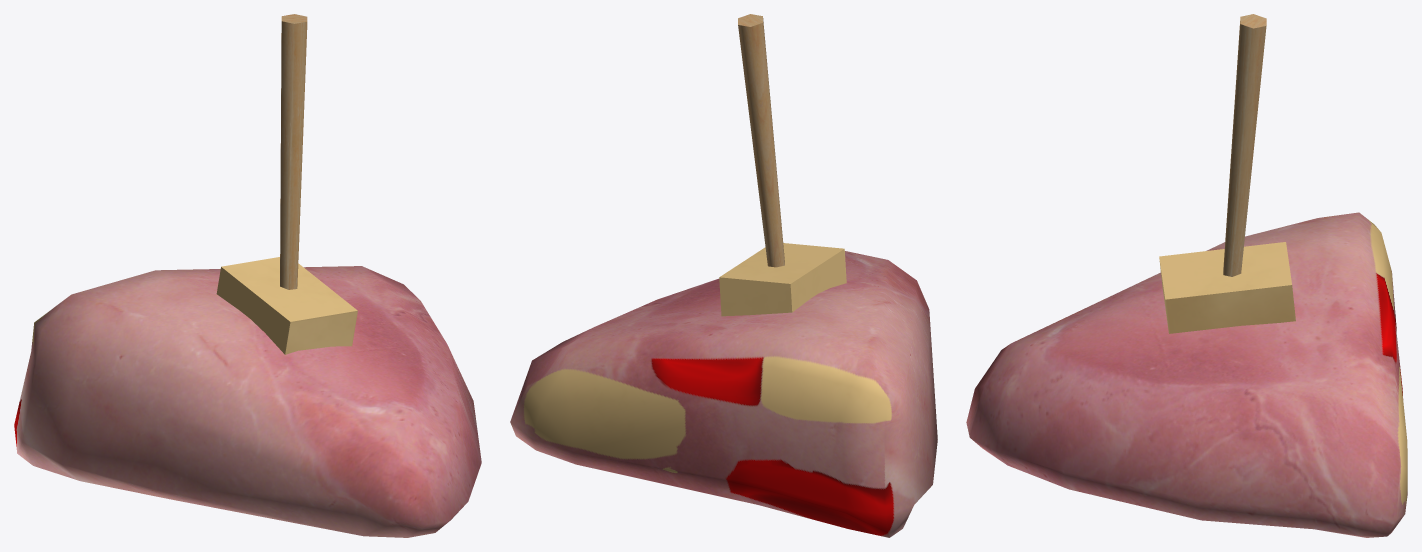
Rendered from BuffetSnacks02_6.FBX.
3 renders of one model, left to right at view 1: azimuth 30°, elevation 25°; view 2: azimuth 150°, elevation 25°; view 3: azimuth 270°, elevation 25°, orthographic. The views are drawn at different scales.
Visible parts, largest first — view 1: BuffetSnacks02_6; view 2: BuffetSnacks02_6; view 3: BuffetSnacks02_6.
Boxes of the visible parts, bbox=[...] form: BuffetSnacks02_6: bbox=[14, 14, 481, 537]; BuffetSnacks02_6: bbox=[510, 14, 937, 537]; BuffetSnacks02_6: bbox=[966, 14, 1407, 537].
Size of what is drawn, in the model's own units: 0.1002 by 0.1041 by 0.093.
